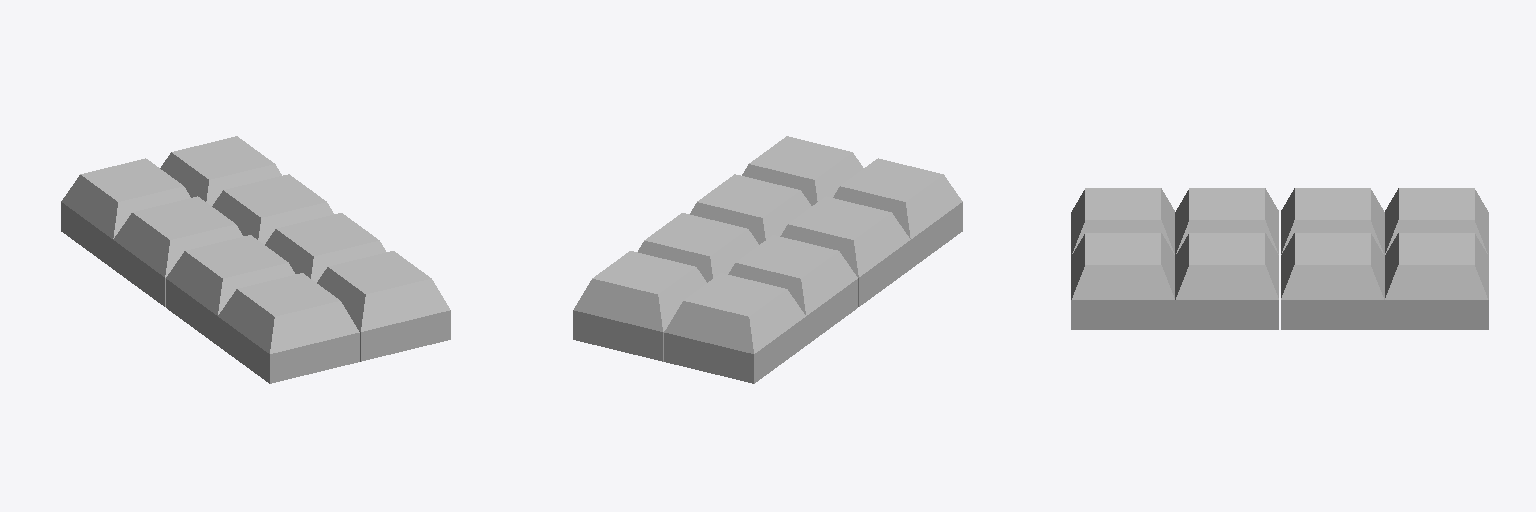
File: NPC scene chocolates.obj
3 views of the same model, side by side, from view 1: azimuth 30°, elevation 25°; view 2: azimuth 150°, elevation 25°; view 3: azimuth 270°, elevation 25° (orthographic).
Visible parts, largest first — view 1: pCube9; view 2: pCube9; view 3: pCube9.
Boxes of the visible parts, x1=… form: pCube9: x1=61, y1=136, x2=450, y2=383; pCube9: x1=573, y1=136, x2=962, y2=383; pCube9: x1=1071, y1=188, x2=1488, y2=329.
Size of the model in its own units: 0.679 by 0.212 by 1.35.